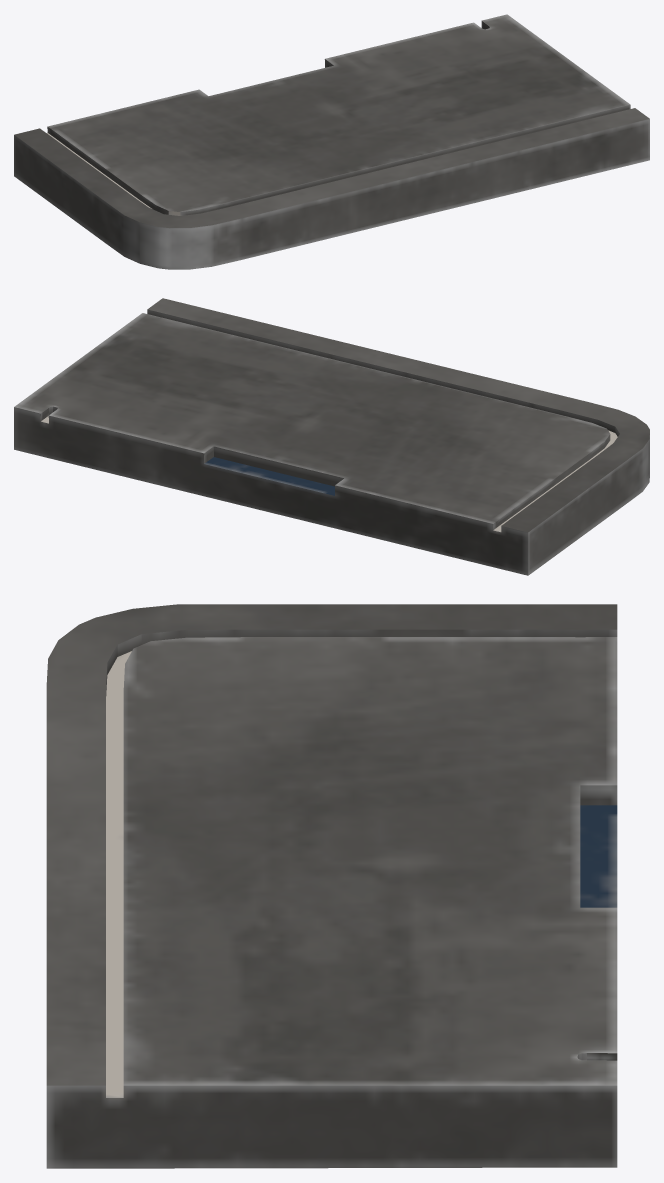
File: FUT0510043.fbx
3 renders of one model, top to bottom at view 1: azimuth 30°, elevation 25°; view 2: azimuth 150°, elevation 25°; view 3: azimuth 270°, elevation 25°, orthographic. The views are drawn at different scales.
Parts seen in each view (by area): view 1: smFUT0510043; view 2: smFUT0510043; view 3: smFUT0510043.
Part boxes in pixels (x1=…): smFUT0510043: x1=14, y1=14, x2=649, y2=269; smFUT0510043: x1=14, y1=298, x2=649, y2=575; smFUT0510043: x1=46, y1=604, x2=617, y2=1168.
Bounding box in the file's own units: 168 × 13.53 × 84.16.
1 material, 1 textured.
